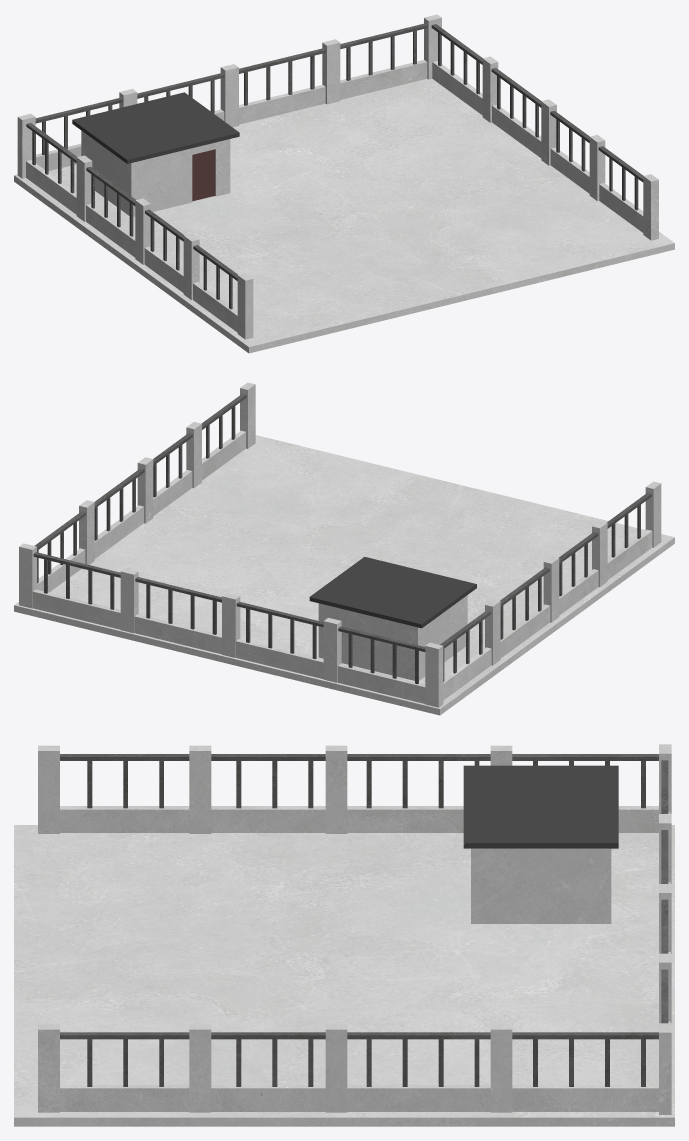
Rendered from Upperfloor_Final.fbx.
3 renders of one model, top to bottom at view 1: azimuth 30°, elevation 25°; view 2: azimuth 150°, elevation 25°; view 3: azimuth 270°, elevation 25°, orthographic. The views are drawn at different scales.
Visible parts, largest first — view 1: Floor_Final, SubPillar_Final; view 2: Floor_Final, SubPillar_Final; view 3: Floor_Final, SubPillar_Final.
Part boxes in pixels (x1,y1,x2,y2): Floor_Final: (14,14,674,353); SubPillar_Final: (26,23,643,332); Floor_Final: (14,382,674,715); SubPillar_Final: (32,394,652,703); Floor_Final: (14,744,674,1126); SubPillar_Final: (60,754,670,1111).
Bounding box in the file's own units: 2287 × 345 × 2184.
2 materials, 2 textured.
